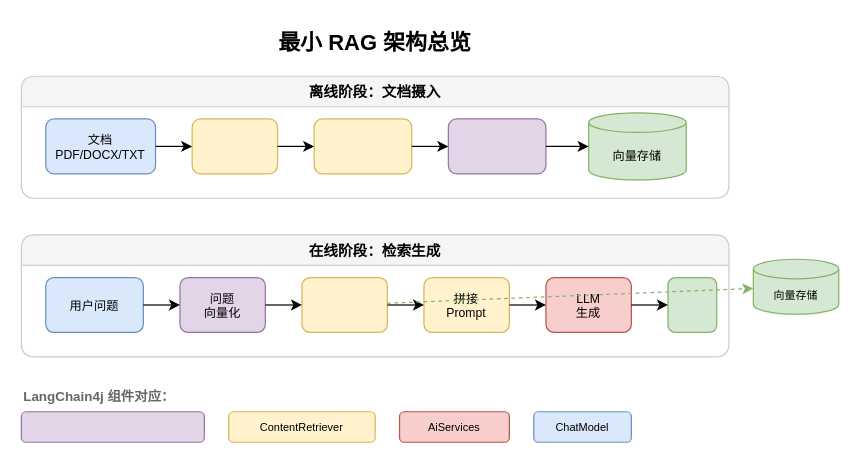
This 860x464 diagram has some shape labels left out. The centre of each missing label's shape, as x and y in pixels:
"EmbeddingStoreIngestor" goes at point (112, 426).
"分块 (500字/块)" goes at point (362, 146).
"向量化 (Embedding)" goes at point (496, 146).
"回答" goes at point (692, 304).
"检索 (Top-5)" goes at point (344, 304).
"解析" goes at point (234, 146).
